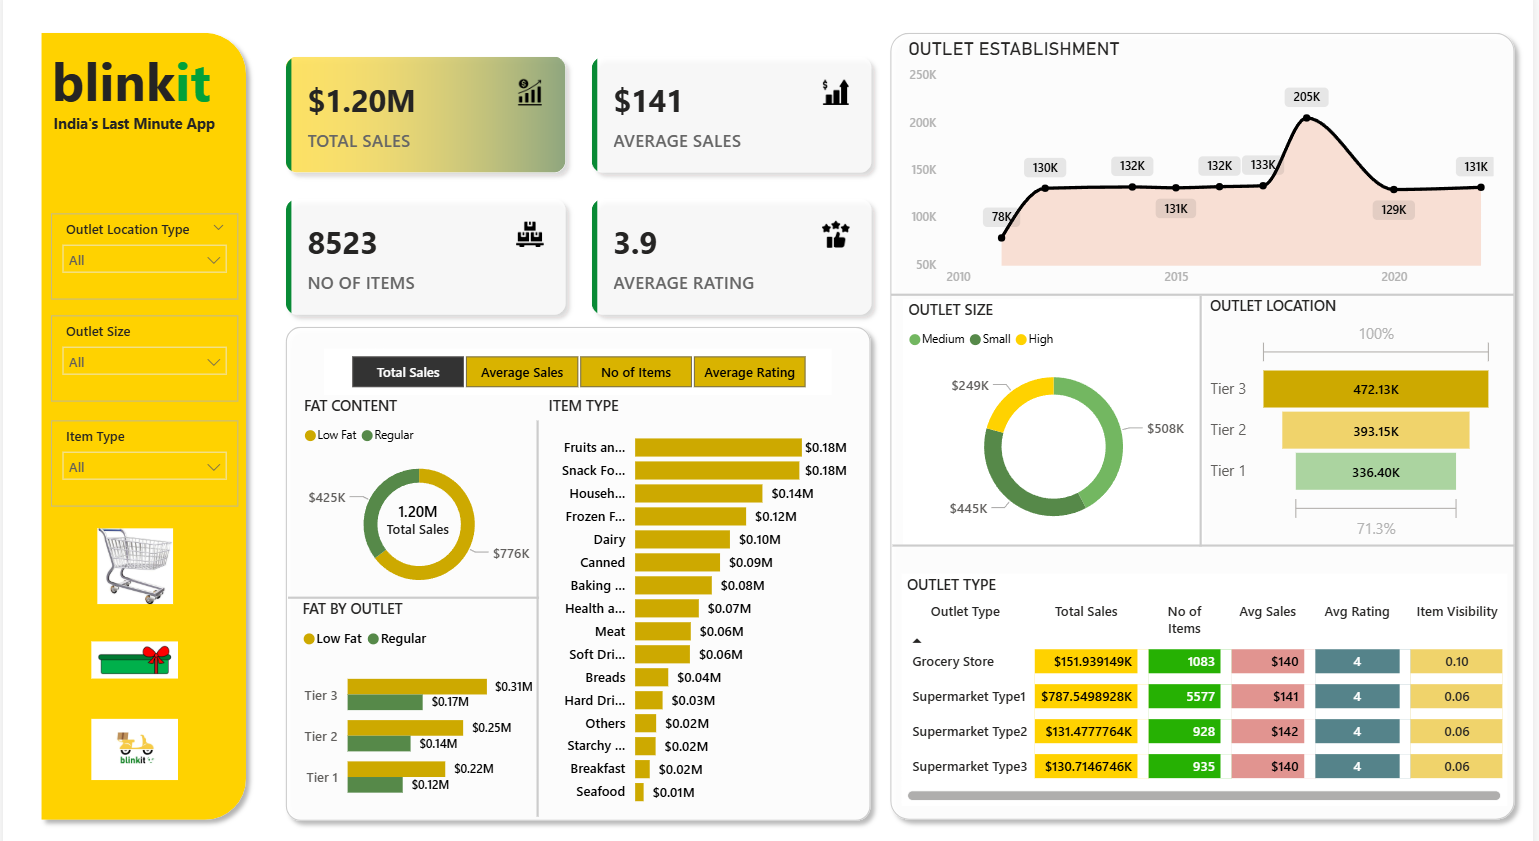

Layout of this report page (visuals, bound fields, positions):
{"tool":"powerbi","page":{"name":"Page 1","canvas":[1400,800],"ordinal":0},"visuals":[{"type":"shape","box":[26.6,30.9,205.3,738.3],"z":0},{"type":"textbox","box":[40.4,43.6,160.6,78.7],"z":1000},{"type":"textbox","box":[41.5,107.4,159.6,28.7],"z":2000},{"type":"cardVisual","fields":{"Data":["BlinkIT Grocery Data.Total Sales","BlinkIT Grocery Data.Average Sales","BlinkIT Grocery Data.No of Items","BlinkIT Grocery Data.Average Rating"]},"box":[241.5,43.6,570.2,270.2],"z":3000},{"type":"shape","box":[250,298.9,553.2,470.2],"z":4000},{"type":"donutChart","title":"FAT CONTENT","fields":{"Y":["BlinkIT Grocery Data.Total Sales"],"Category":["BlinkIT Grocery Data.Item Fat Content"]},"box":[270.2,371.3,220.2,191.5],"z":5000},{"type":"slicer","fields":{"Values":["Metrics.Metrics"]},"box":[293.6,328.7,464.9,42.6],"z":6000},{"type":"cardVisual","fields":{"Data":["BlinkIT Grocery Data.Total Sales"]},"box":[322.2,450.2,114.3,62.1],"z":7000},{"type":"clusteredBarChart","title":"FAT BY OUTLET","fields":{"Y":["BlinkIT Grocery Data.Total Sales"],"Category":["BlinkIT Grocery Data.Outlet Location Type"],"Series":["BlinkIT Grocery Data.Item Fat Content"]},"box":[269.1,556.4,220.2,200],"z":8000},{"type":"shape","box":[260.6,544.7,229.8,22.3],"z":9000},{"type":"shape","box":[456.4,393.6,67,362.8],"z":10000},{"type":"barChart","title":"ITEM TYPE","fields":{"Y":["BlinkIT Grocery Data.Total Sales"],"Category":["BlinkIT Grocery Data.Item Type"]},"box":[493.6,371.3,283,385.1],"z":11000},{"type":"shape","box":[803.2,30.9,589.4,738.3],"z":12000},{"type":"lineChart","title":"OUTLET ESTABLISHMENT","fields":{"Y":["Sum(BlinkIT Grocery Data.Sales)"],"Category":["BlinkIT Grocery Data.Outlet Establishment Year"]},"box":[824.5,43.6,545.7,235.1],"z":13000},{"type":"shape","box":[812.8,260.6,570.2,36.2],"z":14000},{"type":"donutChart","title":"OUTLET SIZE","fields":{"Y":["BlinkIT Grocery Data.Total Sales"],"Category":["BlinkIT Grocery Data.Outlet Size"]},"box":[824.5,283,275,225],"z":15000},{"type":"shape","box":[1063.4,280,67.1,229.7],"z":16000},{"type":"funnel","title":"OUTLET LOCATION","fields":{"Y":["Sum(BlinkIT Grocery Data.Sales)"],"Category":["BlinkIT Grocery Data.Outlet Location Type"]},"box":[1100.1,279,269.5,229.7],"z":17000},{"type":"shape","box":[814.8,489.7,569.4,36.7],"z":18000},{"type":"pivotTable","title":"OUTLET TYPE","fields":{"Rows":["BlinkIT Grocery Data.Outlet Type"],"Values":["BlinkIT Grocery Data.Total Sales","BlinkIT Grocery Data.No of Items","BlinkIT Grocery Data.Average Sales","BlinkIT Grocery Data.Average Rating","Avg(BlinkIT Grocery Data.Item Visibility)"]},"box":[822.2,533.8,554.8,212.9],"z":19000},{"type":"slicer","fields":{"Values":["BlinkIT Grocery Data.Outlet Location Type"]},"box":[43.3,203.9,171.4,78.8],"z":20000},{"type":"slicer","fields":{"Values":["BlinkIT Grocery Data.Outlet Size"]},"box":[43.3,297.5,171.4,78.8],"z":21000},{"type":"slicer","fields":{"Values":["BlinkIT Grocery Data.Item Type"]},"box":[43.3,394.1,171.4,78.8],"z":22000},{"type":"image","box":[80.8,487.7,79.8,79.8],"z":22001},{"type":"image","box":[75.9,563.5,89.7,100.5],"z":22002},{"type":"image","box":[75.9,640.4,89.7,110.3],"z":22003}]}

Visuals, with their boxes on the page's 1400x800 design canvas (x1, y1, x2, y2). These are canvas units, not pixel positions in the 1539x841 screenshot, which may show the page scaled, cropped or inside an application window:
shape: <region>27, 31, 232, 769</region>
textbox: <region>40, 44, 201, 122</region>
textbox: <region>42, 107, 201, 136</region>
cardVisual - BlinkIT Grocery Data.Total Sales x BlinkIT Grocery Data.Average Sales: <region>242, 44, 812, 314</region>
shape: <region>250, 299, 803, 769</region>
"FAT CONTENT" donutChart: <region>270, 371, 490, 563</region>
slicer - Metrics.Metrics: <region>294, 329, 758, 371</region>
cardVisual - BlinkIT Grocery Data.Total Sales: <region>322, 450, 436, 512</region>
"FAT BY OUTLET" clusteredBarChart: <region>269, 556, 489, 756</region>
shape: <region>261, 545, 490, 567</region>
shape: <region>456, 394, 523, 756</region>
"ITEM TYPE" barChart: <region>494, 371, 777, 756</region>
shape: <region>803, 31, 1393, 769</region>
"OUTLET ESTABLISHMENT" lineChart: <region>824, 44, 1370, 279</region>
shape: <region>813, 261, 1383, 297</region>
"OUTLET SIZE" donutChart: <region>824, 283, 1100, 508</region>
shape: <region>1063, 280, 1130, 510</region>
"OUTLET LOCATION" funnel: <region>1100, 279, 1370, 509</region>
shape: <region>815, 490, 1384, 526</region>
"OUTLET TYPE" pivotTable: <region>822, 534, 1377, 747</region>
slicer - BlinkIT Grocery Data.Outlet Location Type: <region>43, 204, 215, 283</region>
slicer - BlinkIT Grocery Data.Outlet Size: <region>43, 298, 215, 376</region>
slicer - BlinkIT Grocery Data.Item Type: <region>43, 394, 215, 473</region>
image: <region>81, 488, 161, 568</region>
image: <region>76, 564, 166, 664</region>
image: <region>76, 640, 166, 751</region>
